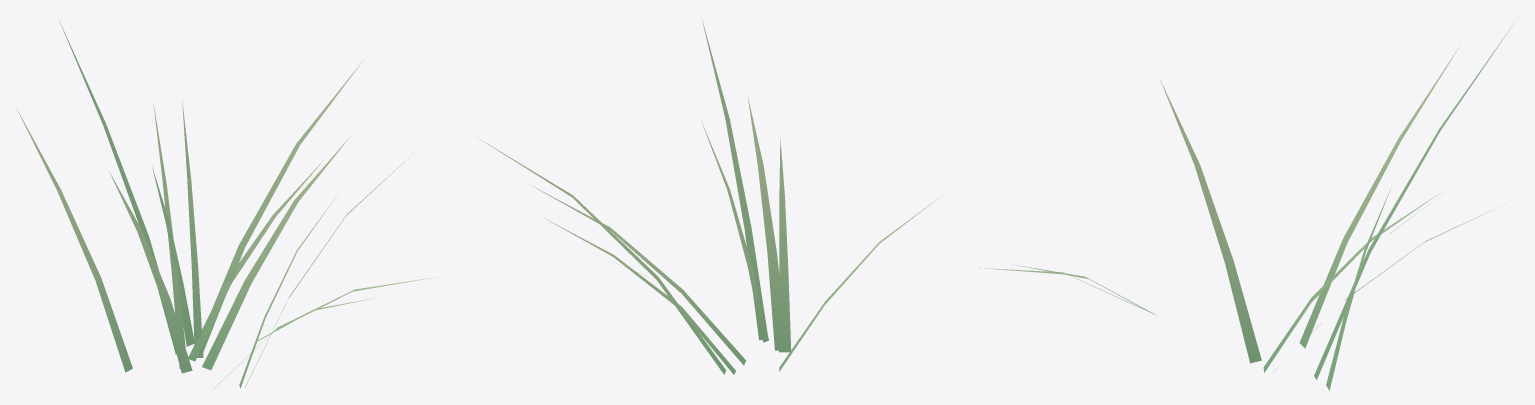
Rendered from grass_tall_a.glb.
3 views of the same model, side by side, from view 1: azimuth 30°, elevation 25°; view 2: azimuth 150°, elevation 25°; view 3: azimuth 270°, elevation 25° (orthographic). The views are drawn at different scales.
Parts seen in each view (by area): view 1: soft; view 2: soft; view 3: soft.
Part boxes in pixels (bbox=[...]): soft: bbox=[15, 18, 436, 390]; soft: bbox=[478, 18, 942, 374]; soft: bbox=[980, 22, 1514, 390].
Bounding box in the file's own units: 0.81 × 0.5913 × 0.8547.
